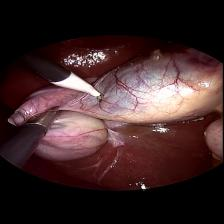Grasper: (22, 103, 66, 127)
Hook: (48, 69, 113, 110)
